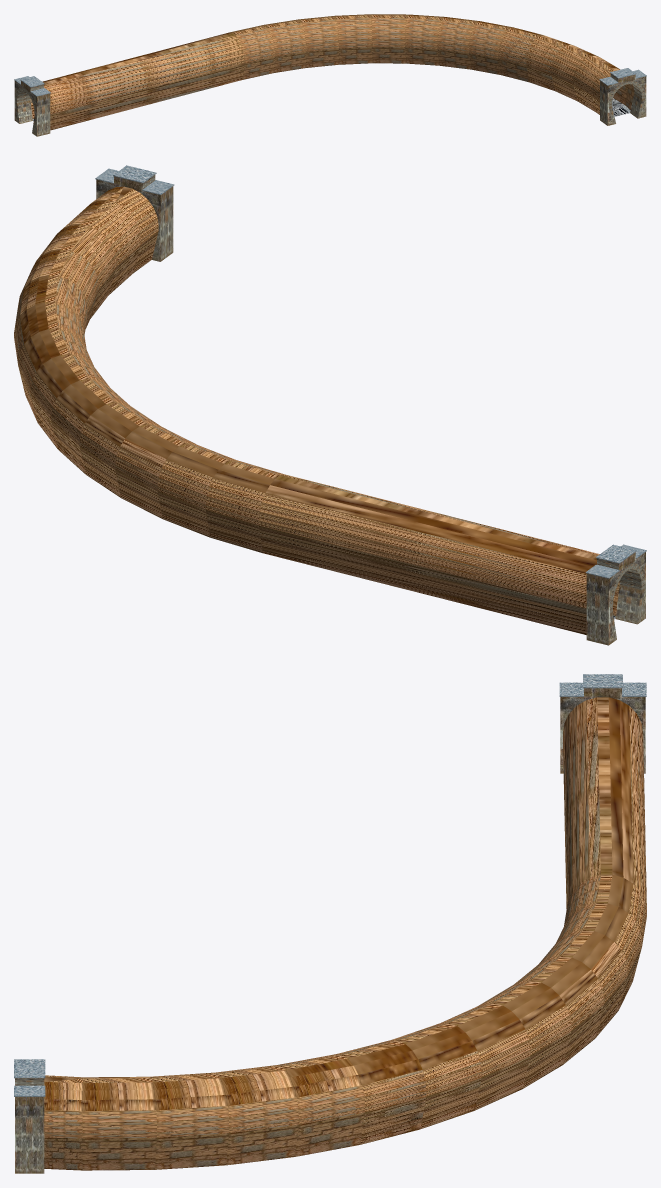
The model's file is GMLID_BUI180021_673_14143.dae.
3 views of the same model, one above another, from view 1: azimuth 30°, elevation 25°; view 2: azimuth 150°, elevation 25°; view 3: azimuth 270°, elevation 25° (orthographic). The views are drawn at different scales.
Size of the model in its own units: 130 by 80.32 by 15.12.
4 materials, 4 textured.
